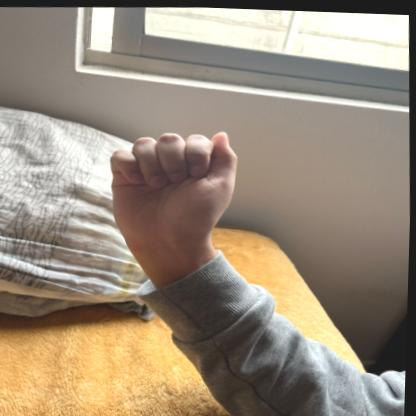A: (98, 118, 247, 252)
